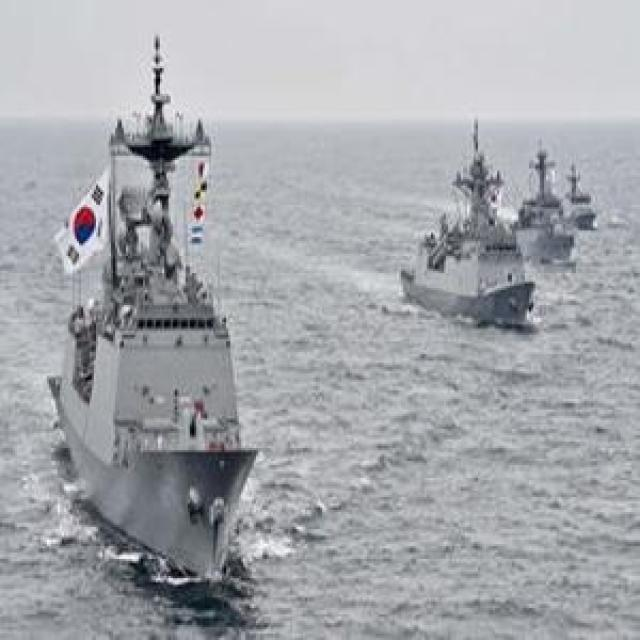navalvessels: (41, 36, 268, 590), (390, 114, 542, 326), (504, 143, 572, 270), (556, 162, 596, 230)
